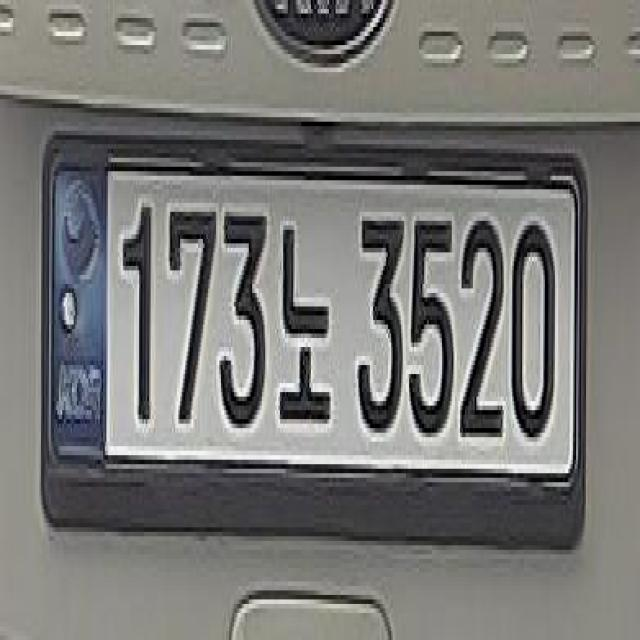illegal_plate: (34, 123, 595, 537)
